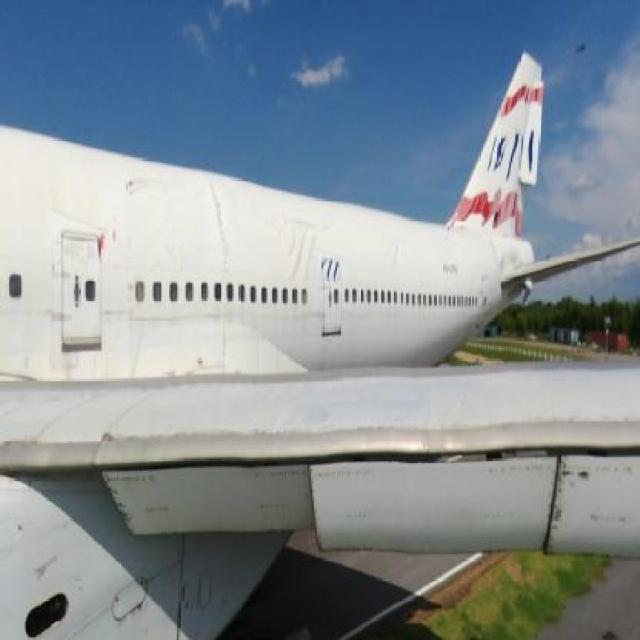Scartch: (552, 469, 603, 538), (103, 477, 139, 526)
